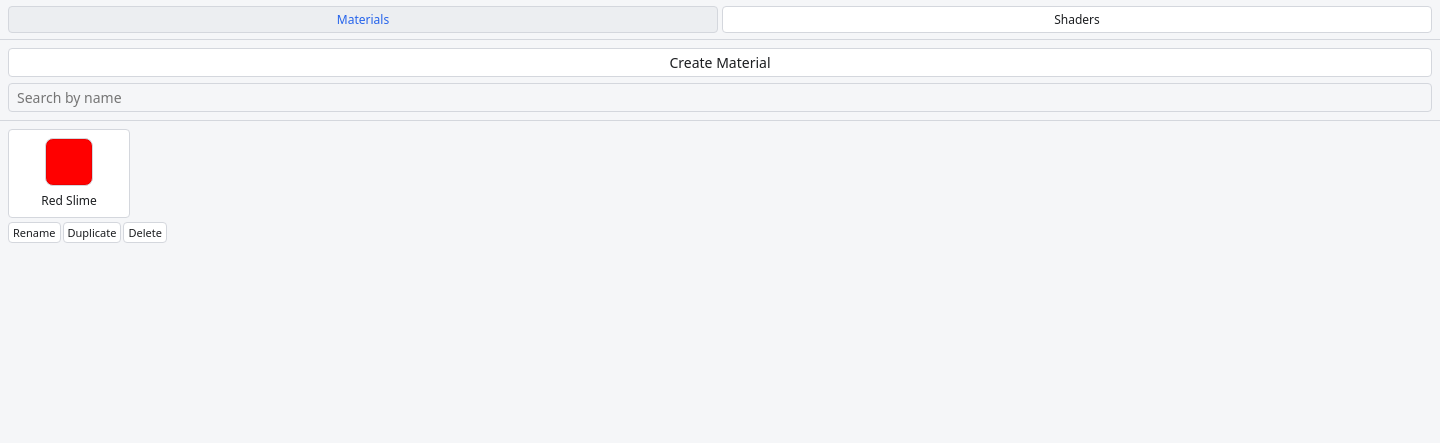
material definition panel › warns when the assigned shader failed to compile
Check: the text "Red Slime" is shown, box [41, 192, 97, 209]
Click the button with aria-label "Select Red Slime".
click(69, 174)  # box [8, 129, 130, 218]
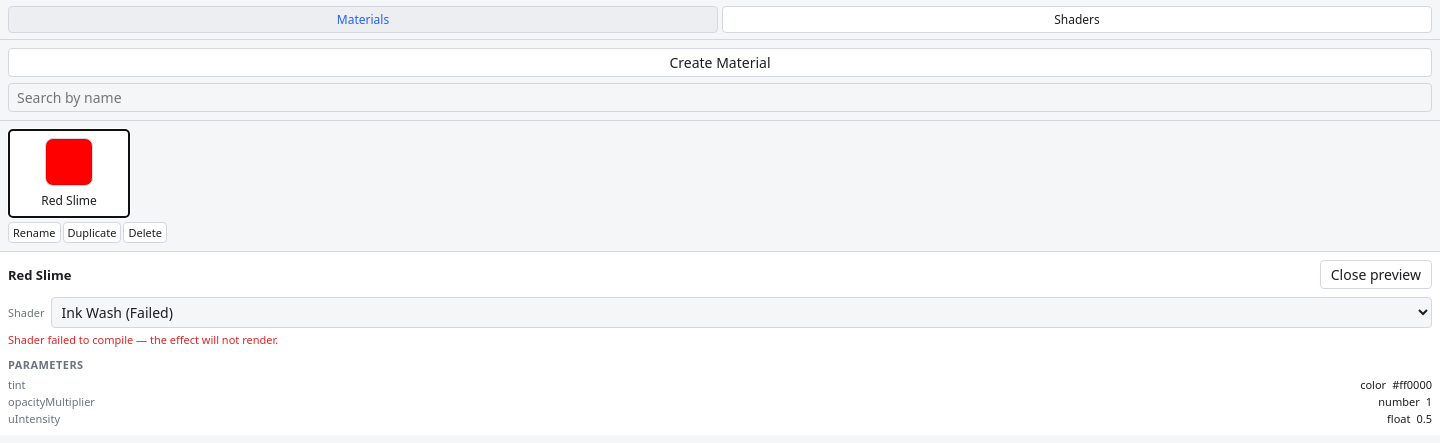
Check: the text "Shader failed to compile — the effect will not render." is shown, box [8, 332, 278, 347]
